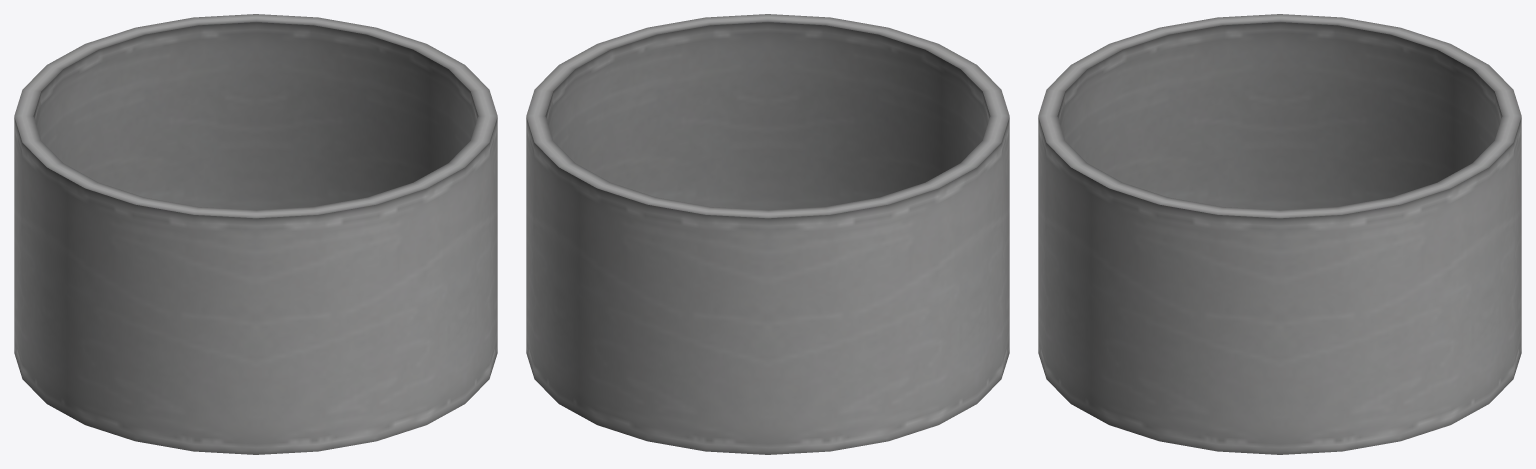
Rendered from 4mv_engine_s0_1_fairing.obj.
3 views of the same model, side by side, from view 1: azimuth 30°, elevation 25°; view 2: azimuth 150°, elevation 25°; view 3: azimuth 270°, elevation 25° (orthographic).
Parts seen in each view (by area): view 1: fairing1; view 2: fairing1; view 3: fairing1.
Part boxes in pixels (x1,y1,x2,y2): fairing1: (14,14,497,454); fairing1: (526,14,1009,454); fairing1: (1038,14,1521,454).
Bounding box in the file's own units: 0.625 × 0.3375 × 0.625.
1 material, 1 textured.
